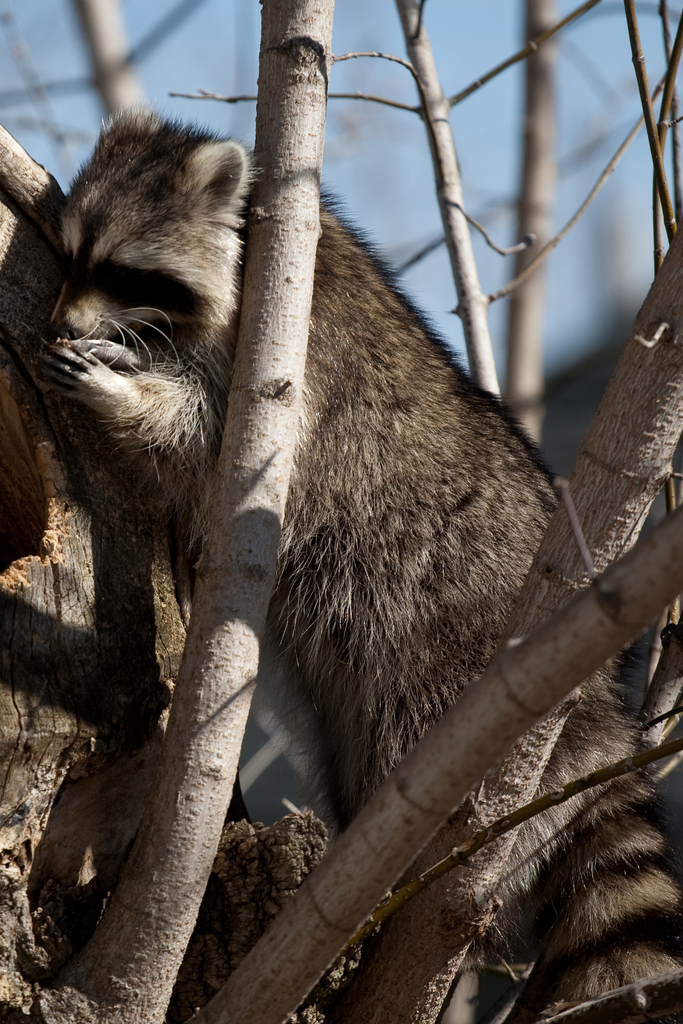raccoon: (40, 102, 683, 1024)
